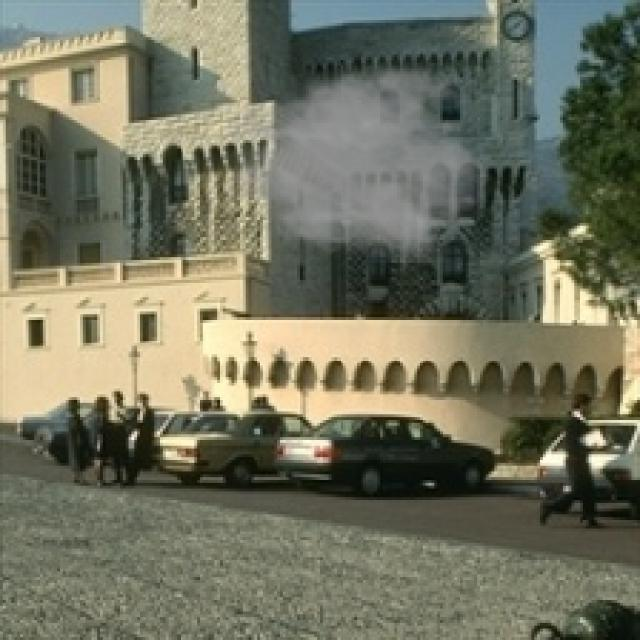smoke: (217, 51, 497, 263)
